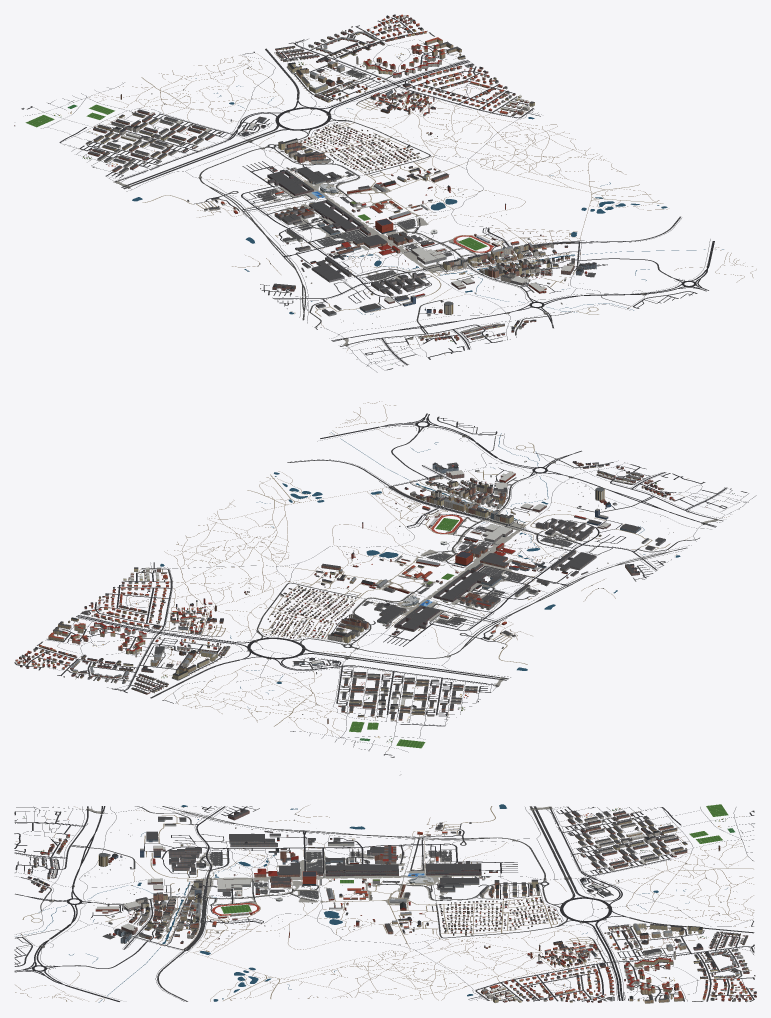
The model's file is corson_objekt.glb.
The picture shows the model from 3 angles, top to bottom: view 1: azimuth 30°, elevation 25°; view 2: azimuth 150°, elevation 25°; view 3: azimuth 270°, elevation 25°; orthographic projection. The views are drawn at different scales.
Visible parts, largest first — view 1: Byggnader_OSM/Byggnader_OSM_3_8_Fasad_atlas, Byggnader_OSM/Byggnader_OSM_2_4_Tak_papp, Byggnader_OSM/Byggnader_OSM_5_2_Fasad_atlas, Byggnader_OSM/Byggnader_OSM_1_1_Fasad_atlas, Byggnader_OSM/Byggnader_OSM_3_3_Fasad_atlas, Byggnader_OSM/Byggnader_OSM_4_1_Fasad_atlas, Byggnader_OSM/Byggnader_OSM_6_1_Fasad_atlas; view 2: Byggnader_OSM/Byggnader_OSM_3_8_Fasad_atlas, Byggnader_OSM/Byggnader_OSM_2_4_Tak_papp, Byggnader_OSM/Byggnader_OSM_5_2_Fasad_atlas; view 3: Byggnader_OSM/Byggnader_OSM_2_4_Tak_papp, Byggnader_OSM/Byggnader_OSM_3_8_Fasad_atlas, Byggnader_OSM/Byggnader_OSM_1_1_Fasad_atlas, Byggnader_OSM/Byggnader_OSM_5_2_Fasad_atlas, Byggnader_OSM/Byggnader_OSM_2_5_Tak_papp, Byggnader_OSM/Byggnader_OSM_4_1_Fasad_atlas, Byggnader_OSM/Byggnader_OSM_6_3_Fasad_atlas, Byggnader_OSM/Byggnader_OSM_3_3_Fasad_atlas, Byggnader_OSM/Byggnader_OSM_1_1_Tak_papp, Vagar/Vagar_1_2_Vag_asfalt, Byggnader_OSM/Byggnader_OSM_6_1_Fasad_atlas, Byggnader_OSM/Byggnader_OSM_2_5_Fasad_atlas (+24 smaller).
Part boxes in pixels (x1,y1,x2,y2): Byggnader_OSM/Byggnader_OSM_3_8_Fasad_atlas: (457,247,536,278); Byggnader_OSM/Byggnader_OSM_2_4_Tak_papp: (268,167,339,194); Byggnader_OSM/Byggnader_OSM_5_2_Fasad_atlas: (366,76,452,110); Byggnader_OSM/Byggnader_OSM_1_1_Fasad_atlas: (111,110,190,145); Byggnader_OSM/Byggnader_OSM_3_3_Fasad_atlas: (298,127,374,164); Byggnader_OSM/Byggnader_OSM_4_1_Fasad_atlas: (296,63,364,98); Byggnader_OSM/Byggnader_OSM_6_1_Fasad_atlas: (410,39,465,71); Byggnader_OSM/Byggnader_OSM_3_8_Fasad_atlas: (444,484,505,520); Byggnader_OSM/Byggnader_OSM_2_4_Tak_papp: (375,603,439,629); Byggnader_OSM/Byggnader_OSM_5_2_Fasad_atlas: (129,604,211,641); Byggnader_OSM/Byggnader_OSM_2_4_Tak_papp: (426,861,481,890); Byggnader_OSM/Byggnader_OSM_3_8_Fasad_atlas: (144,888,202,920); Byggnader_OSM/Byggnader_OSM_1_1_Fasad_atlas: (617,833,687,864); Byggnader_OSM/Byggnader_OSM_5_2_Fasad_atlas: (550,946,619,977); Byggnader_OSM/Byggnader_OSM_2_5_Tak_papp: (325,861,398,874); Byggnader_OSM/Byggnader_OSM_4_1_Fasad_atlas: (620,924,686,951); Byggnader_OSM/Byggnader_OSM_6_3_Fasad_atlas: (482,977,553,1002); Byggnader_OSM/Byggnader_OSM_3_3_Fasad_atlas: (479,887,551,921); Byggnader_OSM/Byggnader_OSM_1_1_Tak_papp: (617,832,686,860); Vagar/Vagar_1_2_Vag_asfalt: (533,806,624,892); Byggnader_OSM/Byggnader_OSM_6_1_Fasad_atlas: (626,975,683,1003); Byggnader_OSM/Byggnader_OSM_2_5_Fasad_atlas: (325,861,405,891).
Size of what is drawn, in the model's own units: 1752 by 114 by 2753.
151 materials, 33 textured.
